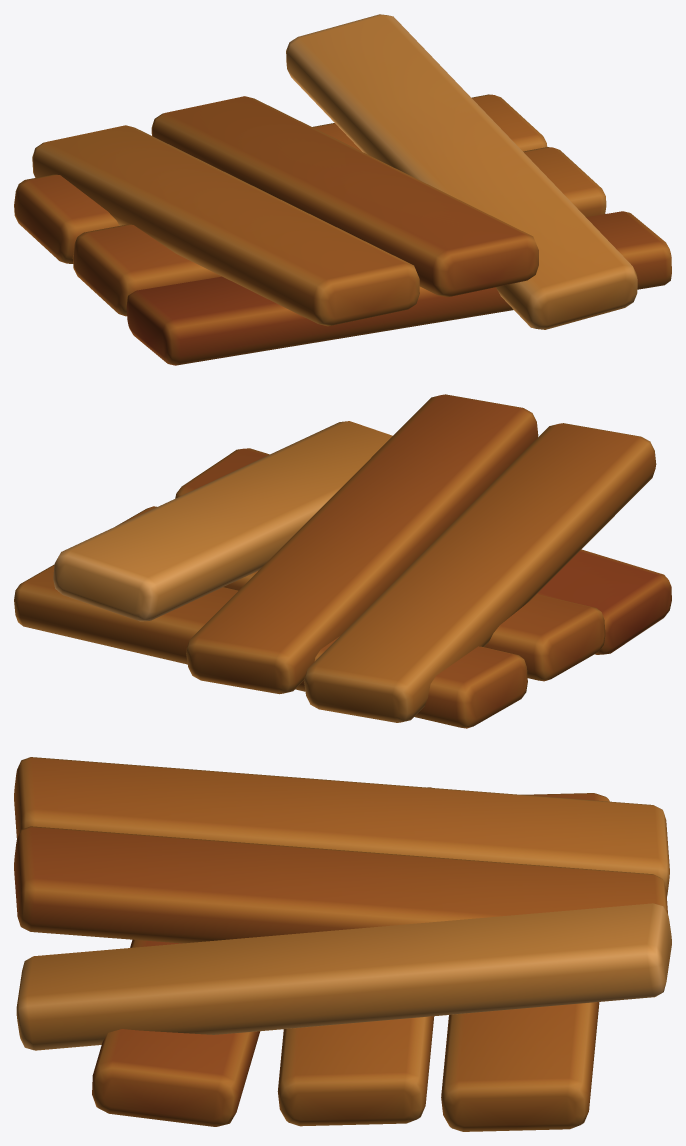
The model's file is SM_planks_002.fbx.
The picture shows the model from 3 angles, top to bottom: view 1: azimuth 30°, elevation 25°; view 2: azimuth 150°, elevation 25°; view 3: azimuth 270°, elevation 25°; orthographic projection. The views are drawn at different scales.
Visible parts, largest first — view 1: SM_planks_002; view 2: SM_planks_002; view 3: SM_planks_002.
Part boxes in pixels (x1,y1,x2,y2): SM_planks_002: (14, 14, 671, 365); SM_planks_002: (14, 394, 671, 728); SM_planks_002: (14, 757, 671, 1131).
Bounding box in the file's own units: 148 × 35.79 × 142.
